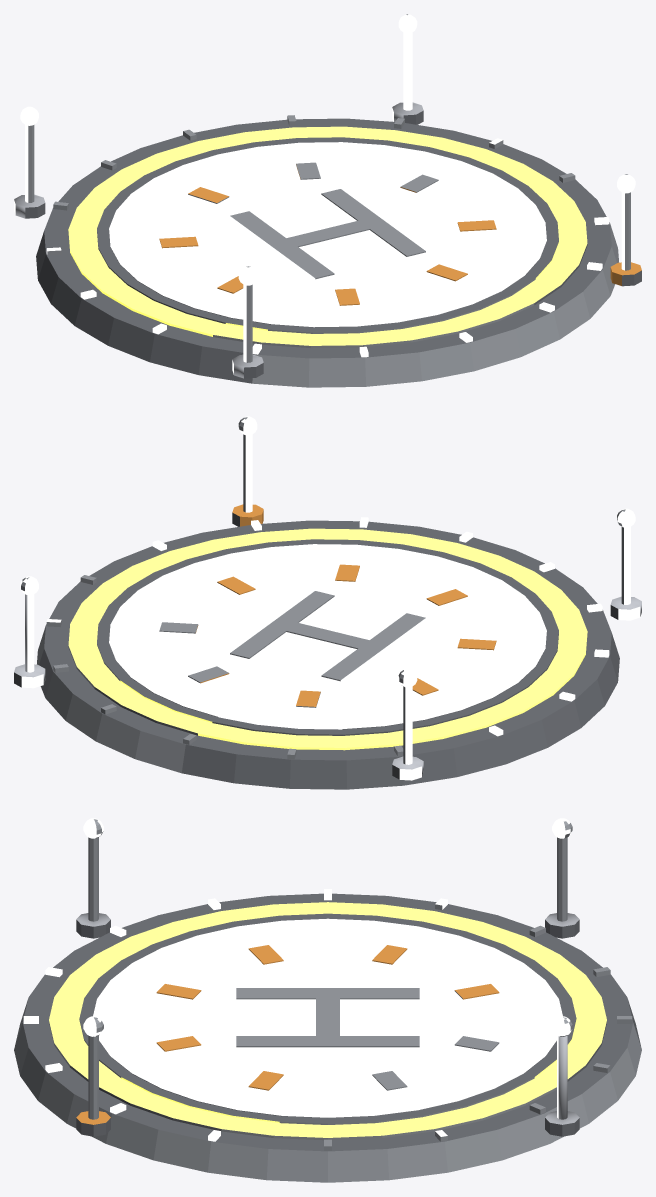
File: landing_pad.glb
3 views of the same model, one above another, from view 1: azimuth 30°, elevation 25°; view 2: azimuth 150°, elevation 25°; view 3: azimuth 270°, elevation 25° (orthographic). The views are drawn at different scales.
Parts seen in each view (by area): view 1: Landing_Pad; view 2: Landing_Pad; view 3: Landing_Pad.
Part boxes in pixels (box(x1,y1,x2,y2)): Landing_Pad: box(14, 14, 641, 387); Landing_Pad: box(14, 416, 641, 789); Landing_Pad: box(14, 818, 641, 1182).
Size of the model in its own units: 14.4 by 3.34 by 14.4.
